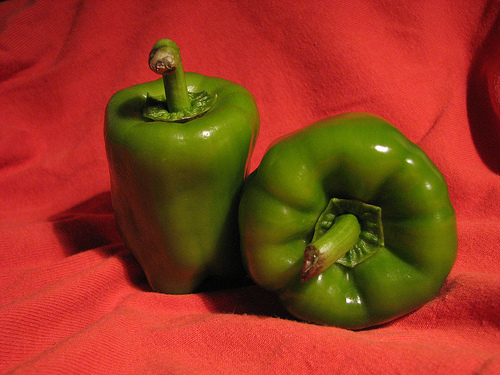capsicum: (231, 109, 462, 334), (100, 31, 258, 298)
